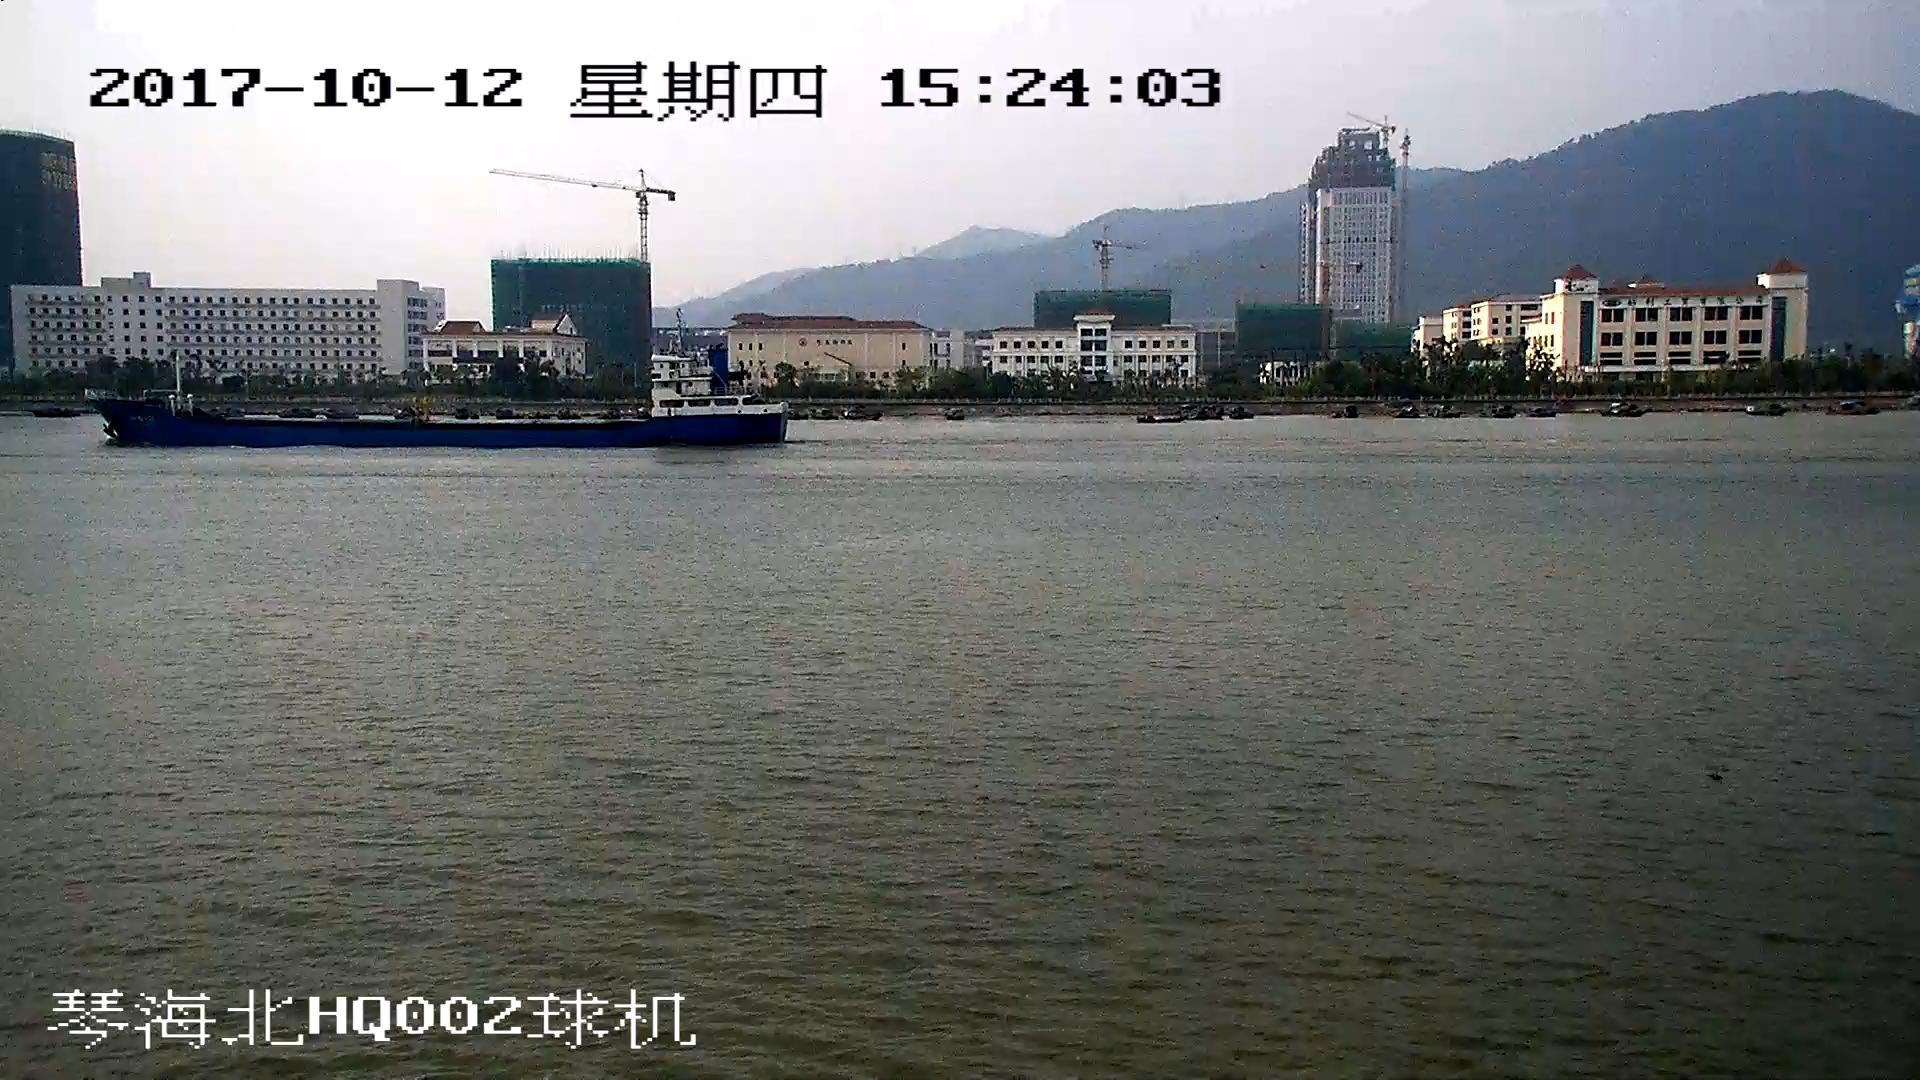general cargo ship: (91, 337, 785, 447)
